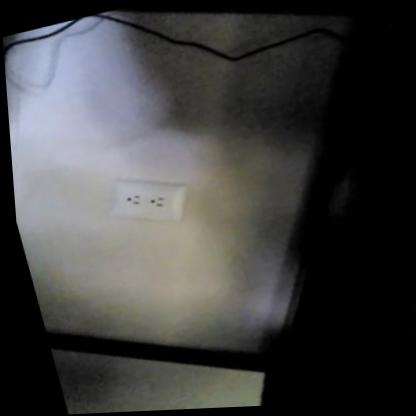OUTLET: (105, 169, 194, 227)
